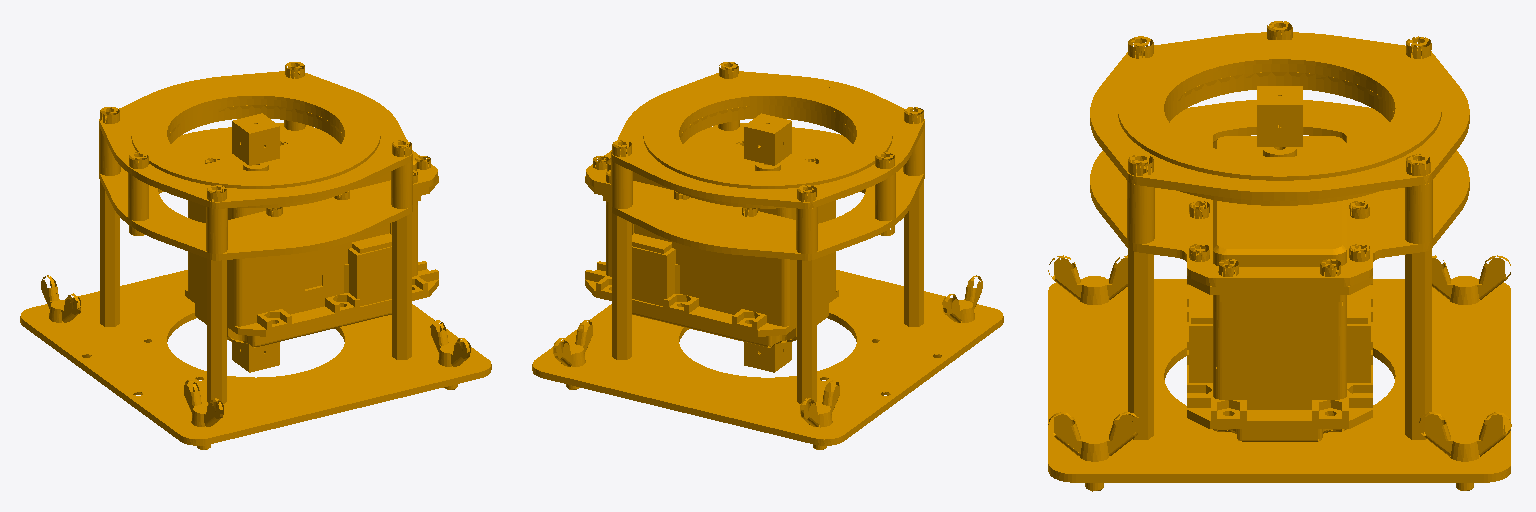
robot.urdf — model_test:
<?xml version="1.0"?>
<robot name="model_test">
	<link name="base_link">
		<visual>
			<geometry>
				<mesh filename="package://infant_description/meshes/Untitled.dae"/>
			</geometry>
		</visual>
	</link>

</robot>

--- Facts derived from the render (not from the file) ---
Views: 3 orthographic renders of the robot side by side, from view 1: azimuth 30°, elevation 25°; view 2: azimuth 150°, elevation 25°; view 3: azimuth 270°, elevation 25°.
Robot: model_test — 1 links, 0 joints (none); root link base_link; default pose: all joints at 0.
Visible links, largest first — view 1: base_link; view 2: base_link; view 3: base_link.
Boxes of the visible links, x1,y1,x2,y2 form: base_link: (20, 62, 491, 449); base_link: (532, 62, 1003, 449); base_link: (1048, 21, 1511, 491).
Size in the robot's own frame: 0.1006 by 0.1001 by 0.075 metres.
Meshes: 1 distinct files referenced, 1 mesh visuals loaded (1 Collada DAE).